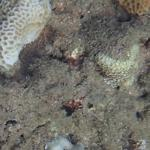dead: (26, 69, 125, 144)
